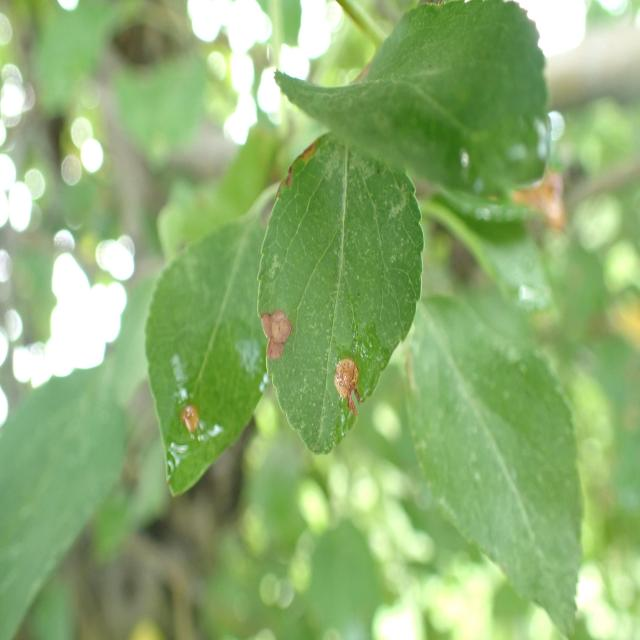Black Rot: (332, 348, 378, 432), (255, 289, 298, 366), (285, 131, 325, 199), (180, 384, 204, 451)
